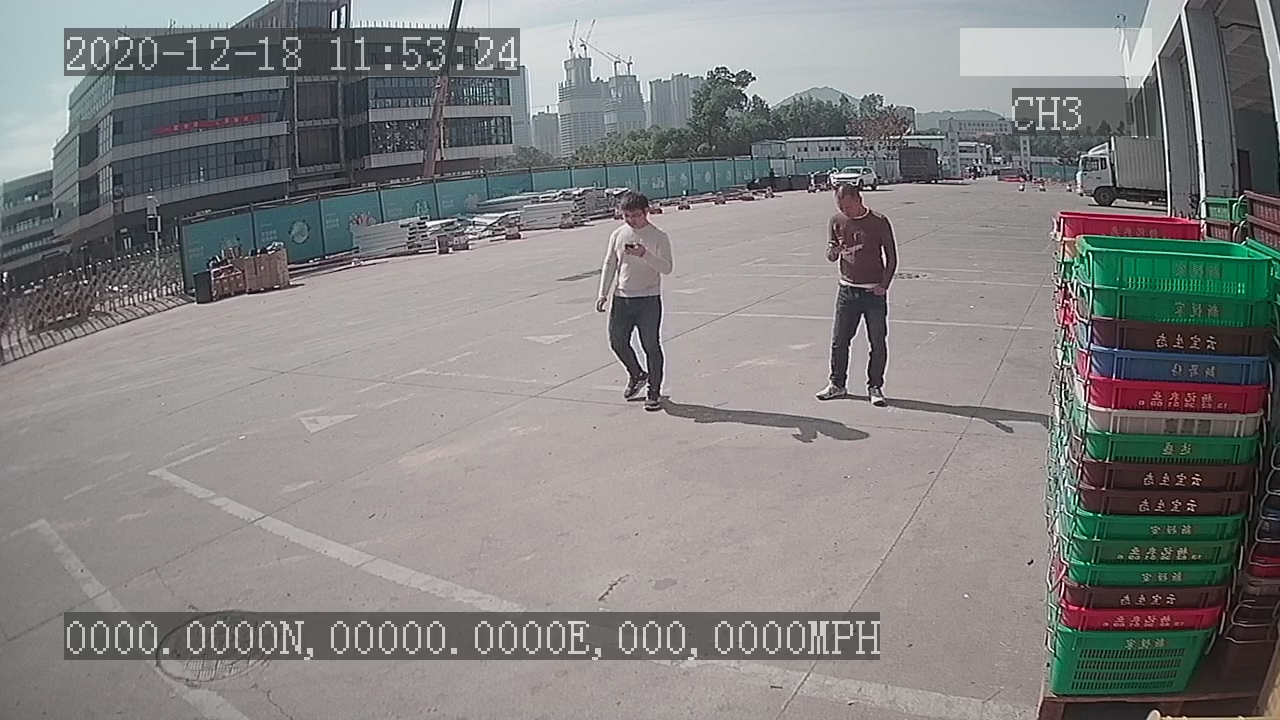person: (809, 177, 902, 413), (590, 183, 676, 417)
